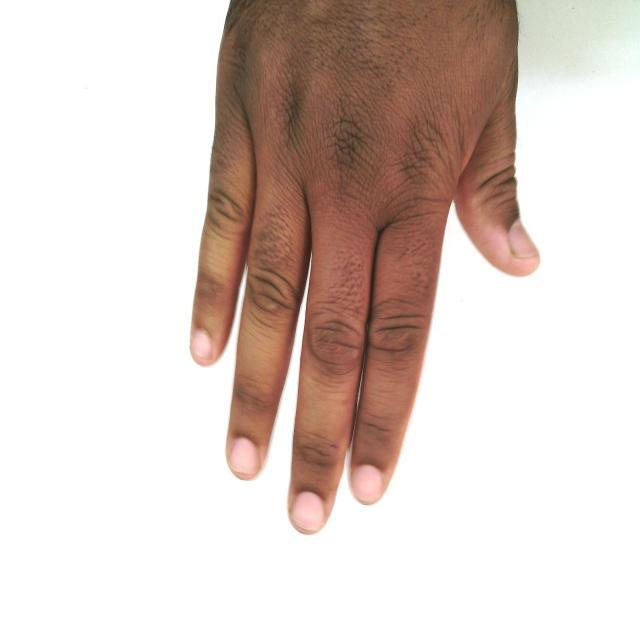Fingernail: (292, 493, 324, 531), (353, 465, 383, 503), (510, 221, 538, 259), (231, 439, 259, 475), (192, 331, 212, 360)
